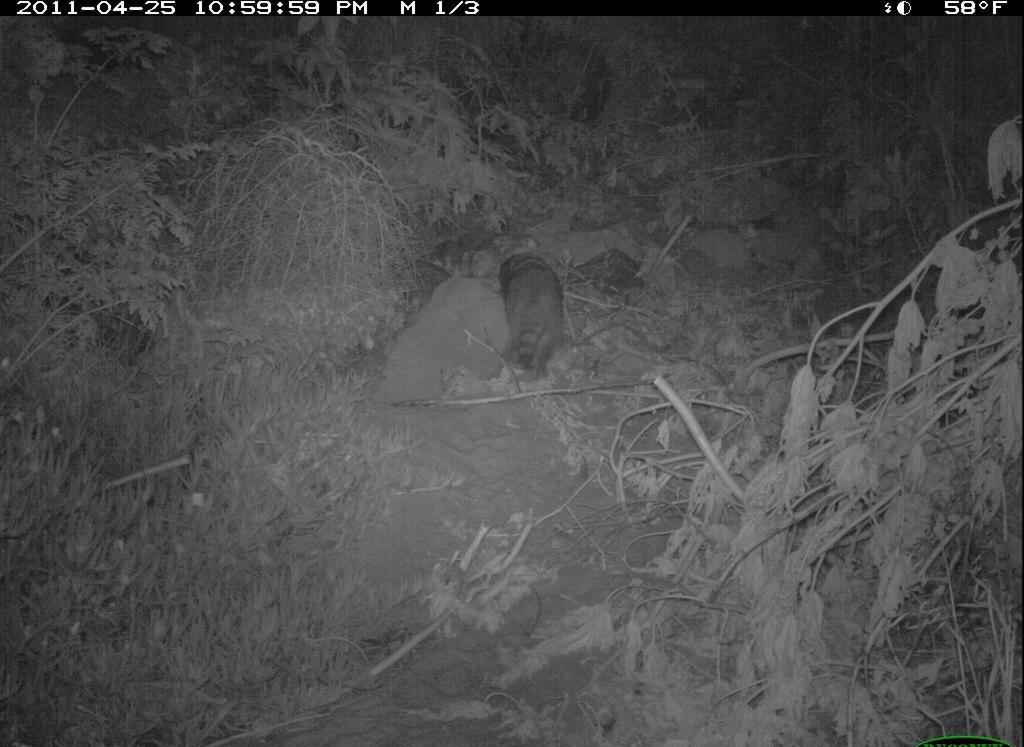raccoon: (492, 245, 577, 396)
